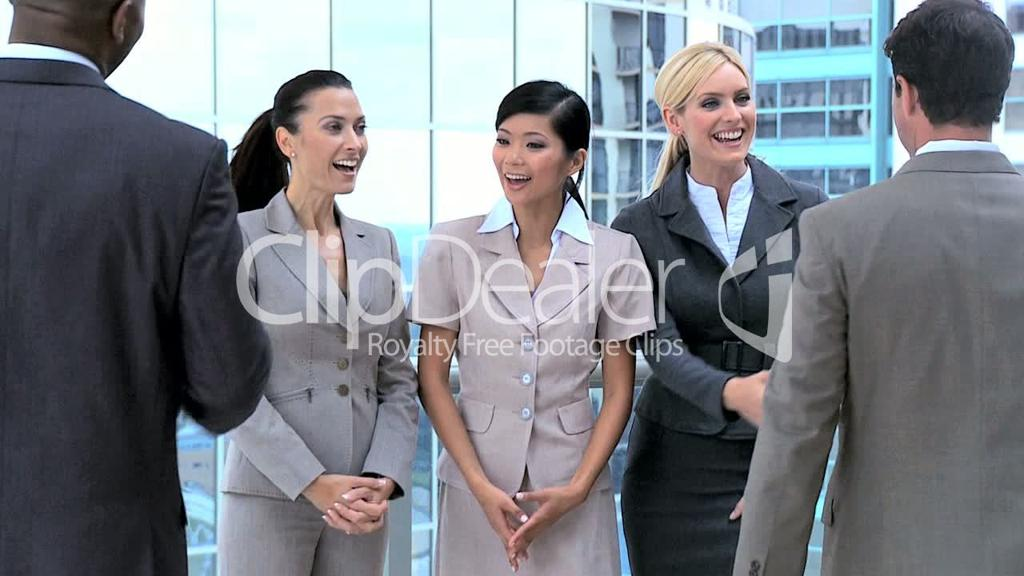face: (294, 86, 366, 194), (684, 66, 756, 170), (492, 114, 562, 208)
